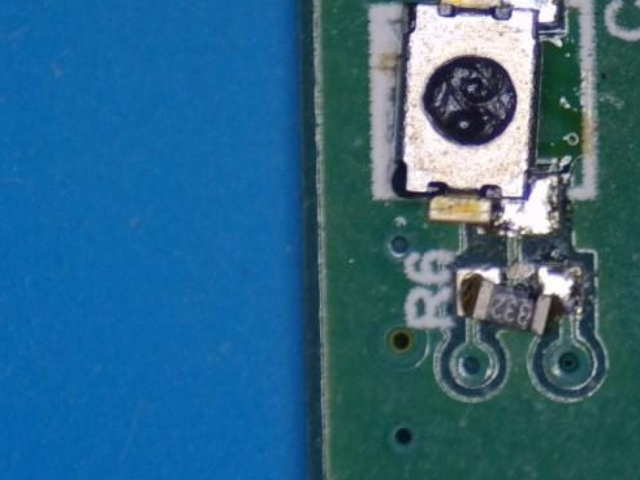pcb_defect: (389, 0, 559, 235), (457, 267, 583, 337)
